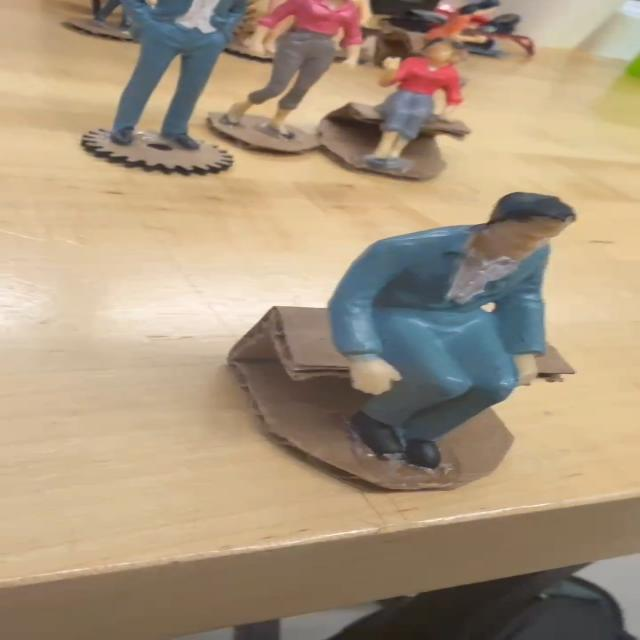Authorized: (309, 173, 568, 467)
